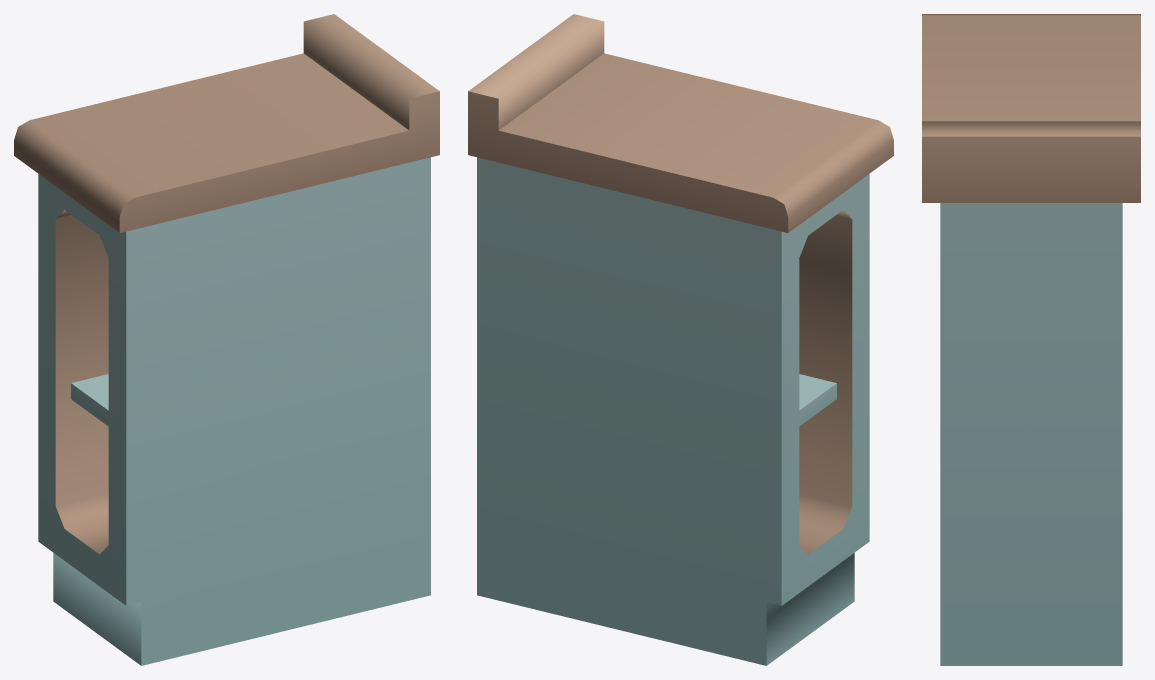
The model's file is cabinet-decorative-narrow.glb.
3 views of the same model, side by side, from view 1: azimuth 30°, elevation 25°; view 2: azimuth 150°, elevation 25°; view 3: azimuth 270°, elevation 25° (orthographic). The views are drawn at different scales.
Parts seen in each view (by area): view 1: cabinet-decorative-narrow; view 2: cabinet-decorative-narrow; view 3: cabinet-decorative-narrow.
Part boxes in pixels (<box>): cabinet-decorative-narrow: <box>14,14,439,665</box>; cabinet-decorative-narrow: <box>468,14,893,665</box>; cabinet-decorative-narrow: <box>922,14,1140,665</box>.
Bounding box in the file's own units: 0.525 × 0.8 × 0.3.
